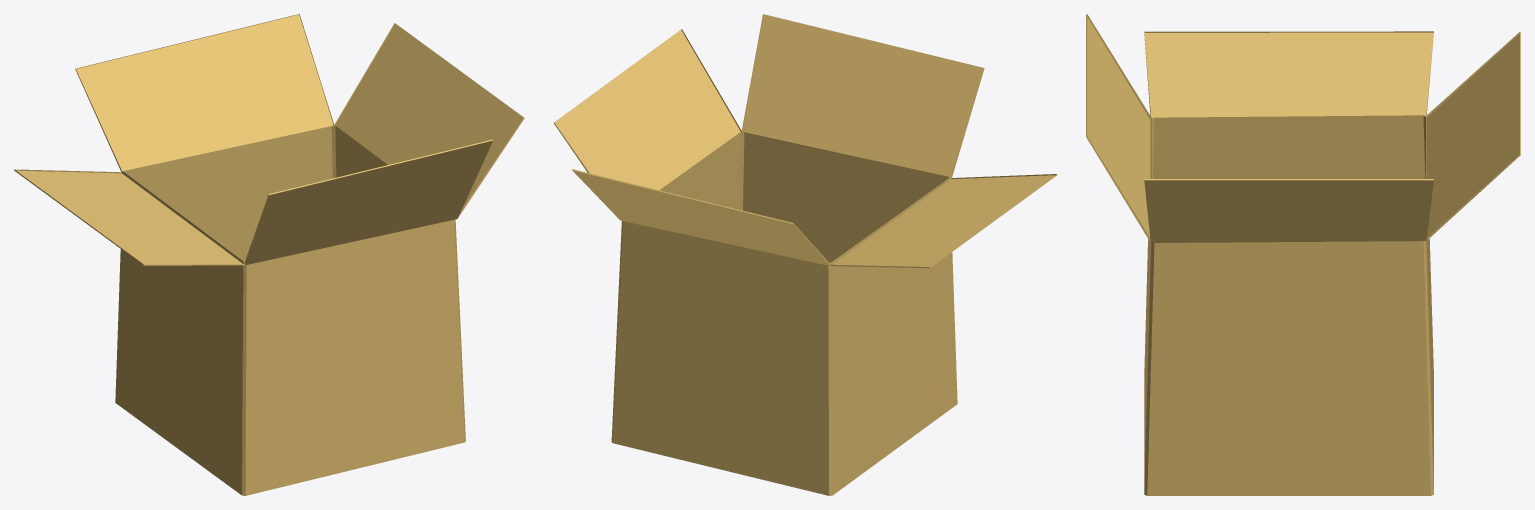
File: kerdus.fbx
3 renders of one model, left to right at view 1: azimuth 30°, elevation 25°; view 2: azimuth 150°, elevation 25°; view 3: azimuth 270°, elevation 25°, orthographic. The views are drawn at different scales.
Parts seen in each view (by area): view 1: Куб; view 2: Куб; view 3: Куб.
Boxes of the visible parts, x1=… form: Куб: x1=14, y1=14, x2=524, y2=495; Куб: x1=554, y1=14, x2=1057, y2=495; Куб: x1=1086, y1=14, x2=1520, y2=495.
Bounding box in the file's own units: 68.11 × 54.78 × 60.03.
